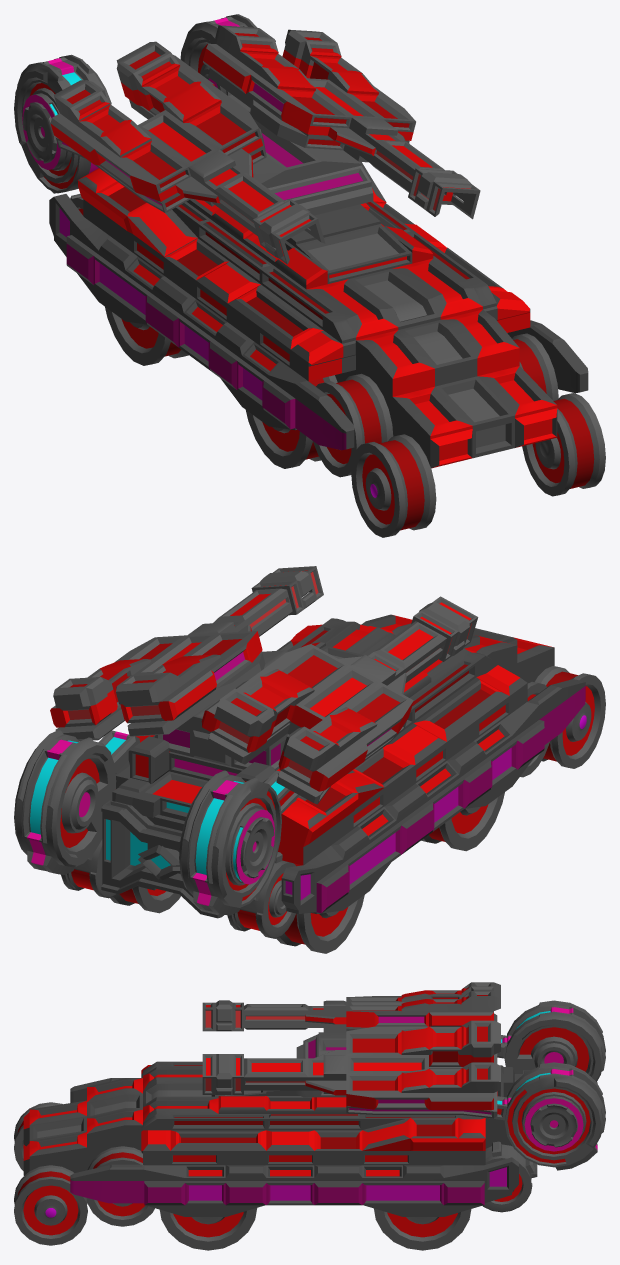
File: S_TANK_3_FINAL.fbx
The picture shows the model from 3 angles, top to bottom: view 1: azimuth 30°, elevation 25°; view 2: azimuth 150°, elevation 25°; view 3: azimuth 270°, elevation 25°; orthographic projection. The views are drawn at different scales.
Parts seen in each view (by area): view 1: pCube1, pCube2, pCylinder19, pCylinder18, pCylinder12, pCylinder21, pCylinder15, pCylinder13, pCylinder16, pCylinder11, pCylinder20; view 2: pCube1, pCube2, pCylinder11, pCylinder12, pCylinder19, pCylinder13, pCylinder6, pCylinder16, pCylinder15, pCylinder5, pCylinder17, pCylinder21; view 3: pCube1, pCube2, pCylinder11, pCylinder12, pCylinder18, pCylinder17, pCylinder3, pCylinder14, pCylinder20, pCylinder5, pCylinder19.
Part boxes in pixels (left/top/right/bottom): pCube1: left=49, top=162, right=588, bottom=468; pCube2: left=50, top=25, right=480, bottom=264; pCylinder19: left=351, top=434, right=436, bottom=537; pCylinder18: left=522, top=393, right=605, bottom=496; pCylinder12: left=14, top=54, right=111, bottom=193; pCylinder21: left=313, top=373, right=393, bottom=477; pCylinder15: left=246, top=375, right=337, bottom=468; pCylinder13: left=22, top=93, right=66, bottom=169; pCylinder16: left=105, top=307, right=188, bottom=365; pCylinder11: left=180, top=14, right=257, bottom=95; pCylinder20: left=512, top=333, right=558, bottom=400; pCube1: left=101, top=614, right=585, bottom=918; pCube2: left=50, top=566, right=478, bottom=804; pCylinder11: left=14, top=730, right=139, bottom=875; pCylinder12: left=179, top=770, right=299, bottom=915; pCylinder19: left=535, top=666, right=605, bottom=768; pCylinder13: left=230, top=808, right=274, bottom=884; pCylinder6: left=227, top=852, right=295, bottom=938; pCylinder16: left=276, top=863, right=364, bottom=953; pCylinder15: left=421, top=792, right=504, bottom=851; pCylinder5: left=61, top=839, right=116, bottom=898; pCylinder17: left=110, top=886, right=180, bottom=913; pCylinder21: left=520, top=681, right=549, bottom=777; pCube1: left=23, top=1061, right=537, bottom=1216; pCube2: left=202, top=982, right=500, bottom=1118; pCylinder11: left=480, top=1062, right=605, bottom=1170; pCylinder12: left=497, top=1000, right=605, bottom=1083; pCylinder18: left=14, top=1165, right=87, bottom=1245; pCylinder17: left=374, top=1208, right=471, bottom=1250; pCylinder3: left=159, top=1208, right=257, bottom=1250; pCylinder14: left=524, top=1096, right=583, bottom=1151; pCylinder20: left=86, top=1146, right=154, bottom=1226; pCylinder5: left=482, top=1141, right=535, bottom=1212; pCylinder19: left=14, top=1102, right=62, bottom=1170.
Bounding box in the file's own units: 257 × 236 × 619.
